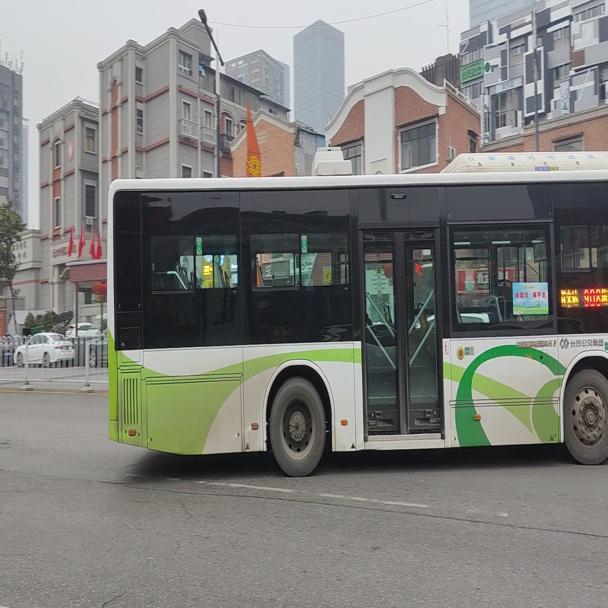bus: (106, 164, 608, 474)
screen: (580, 288, 600, 306)
